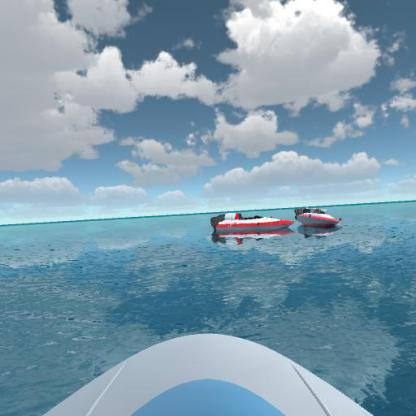usv3: (203, 205, 295, 241), (292, 205, 341, 234)
